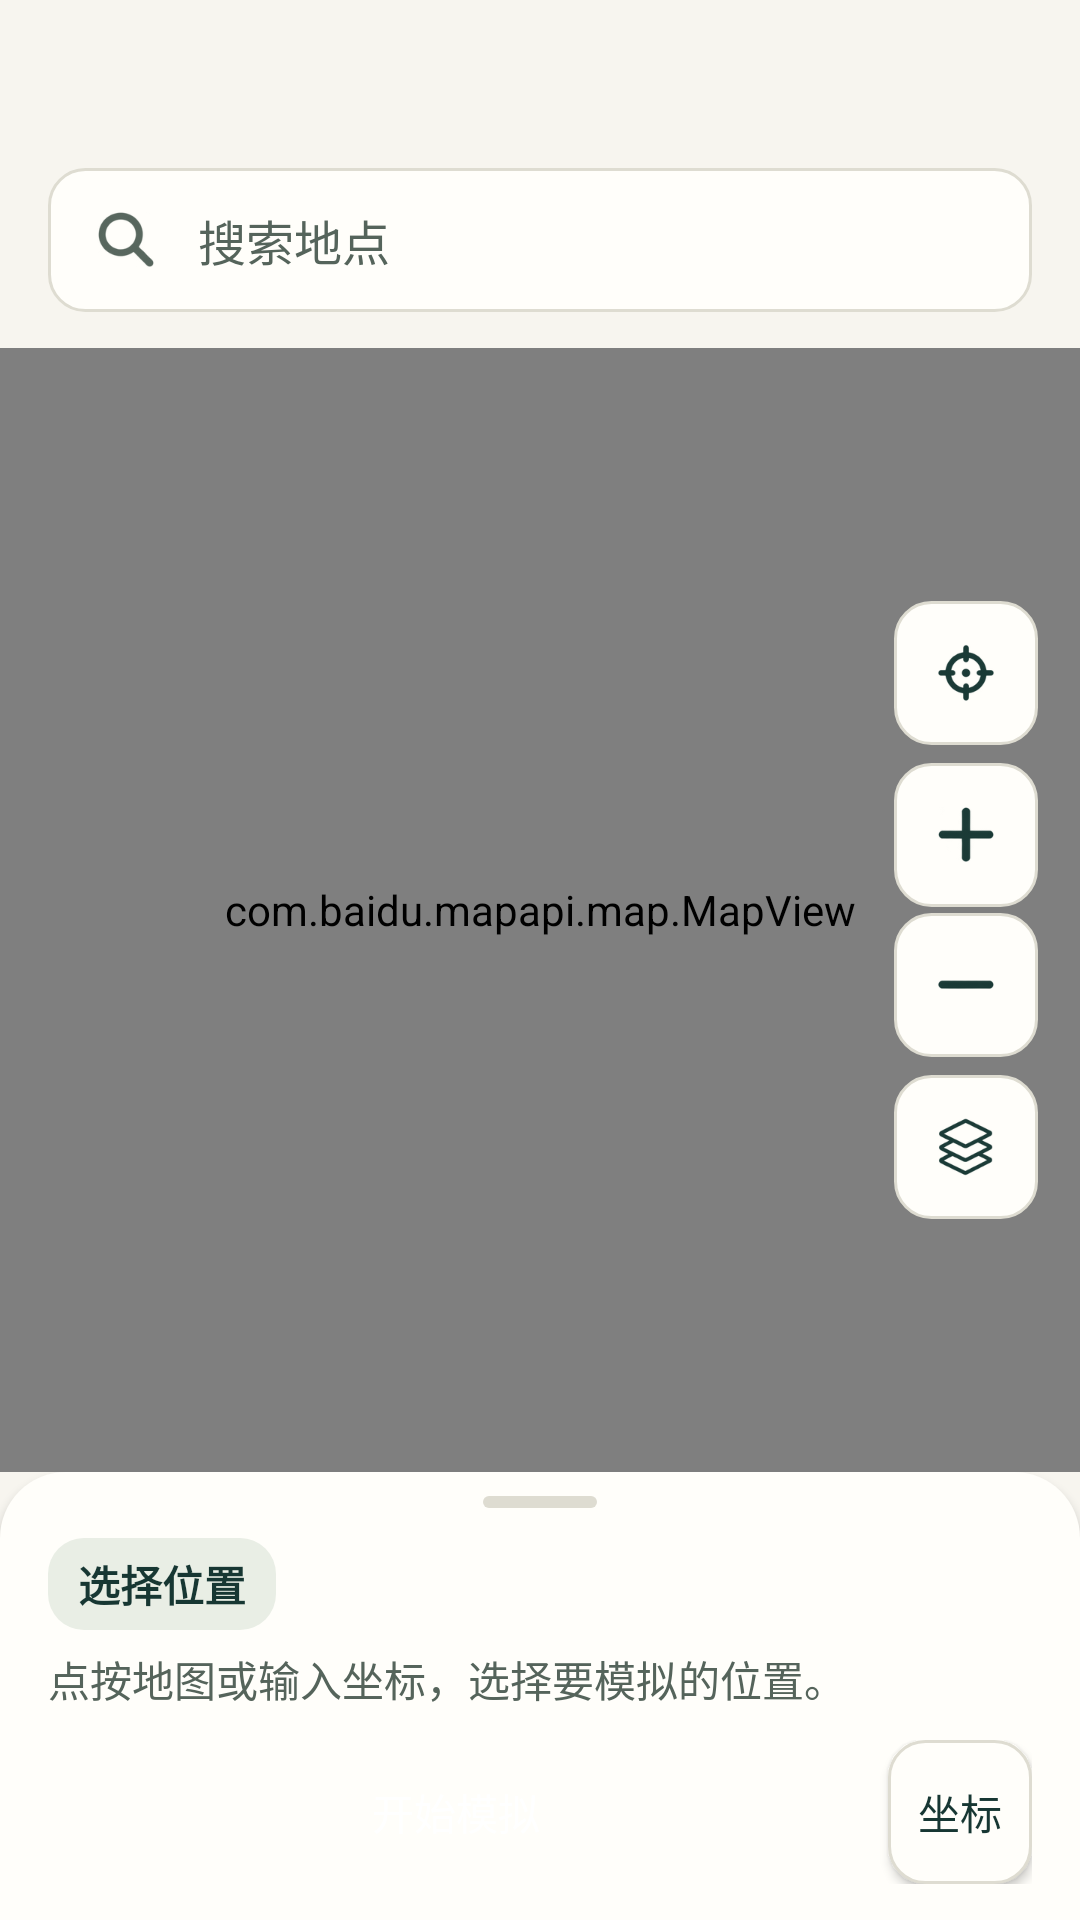

Screen size 1080×1920. Icon name, then its center in pixels as [x,y]:
切换地图图层: [966,1147]
放大: [966,835]
缩小: [966,985]
返回当前位置: [966,673]
